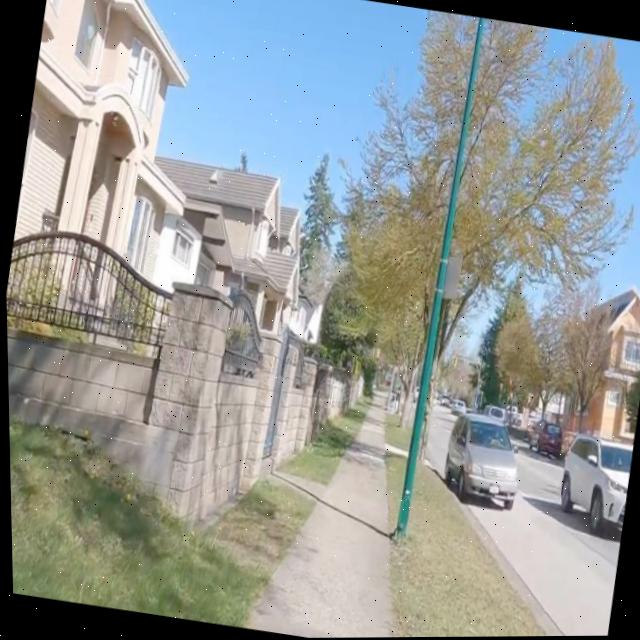Automobile: (557, 434, 631, 533), (441, 414, 515, 509), (534, 423, 558, 459), (482, 408, 502, 421), (450, 401, 463, 415)
Road: (453, 453, 618, 637), (427, 413, 450, 477)
Sidewalk: (250, 411, 389, 638)
